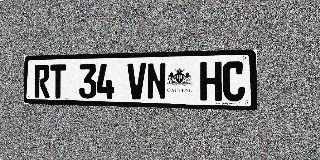3: (79, 64, 96, 99)
4: (97, 63, 114, 99)
C: (222, 61, 245, 102)
H: (200, 62, 222, 101)
N: (147, 63, 166, 100)
R: (34, 65, 50, 98)
T: (50, 64, 66, 98)
V: (127, 63, 146, 100)
